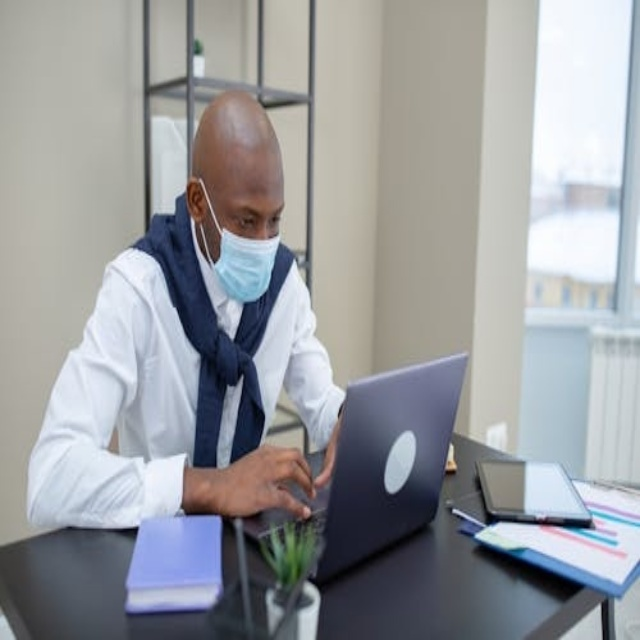Mascara: (202, 182, 280, 302)
Sin_gafas: (223, 185, 287, 233)
Sin_guantes: (220, 431, 320, 521)
